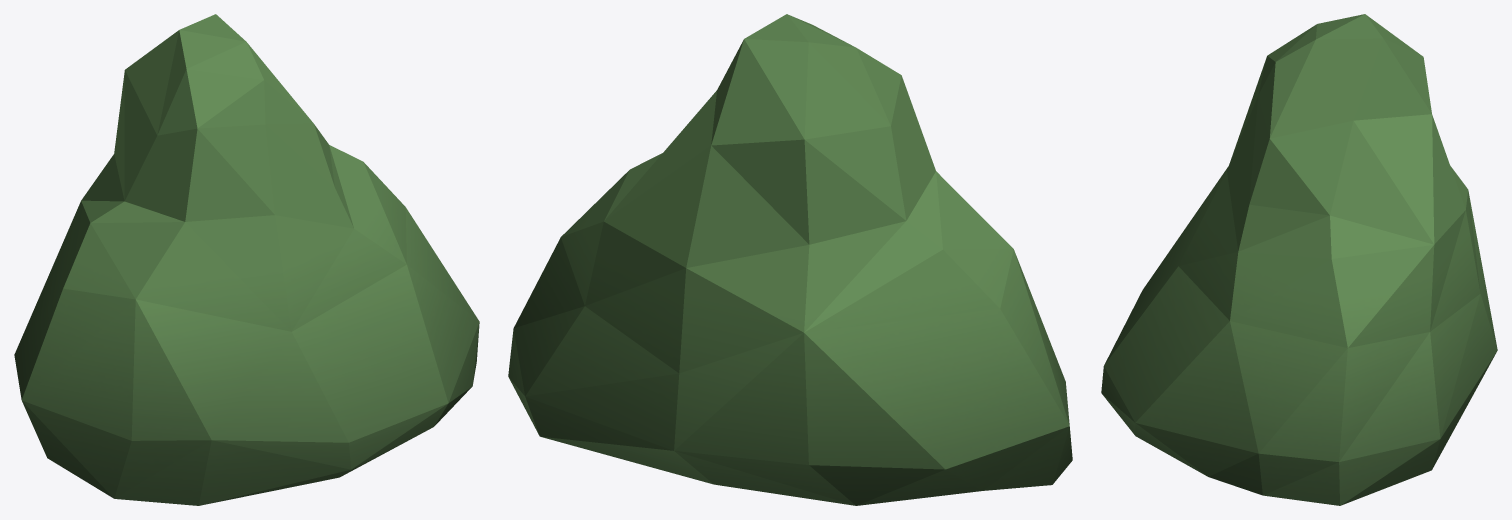
Rendered from Jungle_Bush_D.fbx.
The picture shows the model from 3 angles, left to right: view 1: azimuth 30°, elevation 25°; view 2: azimuth 150°, elevation 25°; view 3: azimuth 270°, elevation 25°; orthographic projection. The views are drawn at different scales.
Visible parts, largest first — view 1: Jungle_Bush_D; view 2: Jungle_Bush_D; view 3: Jungle_Bush_D.
Boxes of the visible parts, x1,y1,x2,y2 form: Jungle_Bush_D: [14, 14, 479, 505]; Jungle_Bush_D: [508, 14, 1072, 505]; Jungle_Bush_D: [1101, 14, 1497, 505].
Size of the model in its own units: 2.23 by 1.77 by 1.66.
Materials: 1 (1 with a texture image).
